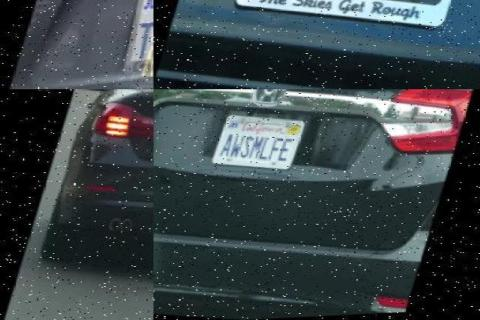LicensePlate: (233, 0, 480, 84), (212, 111, 307, 179)
